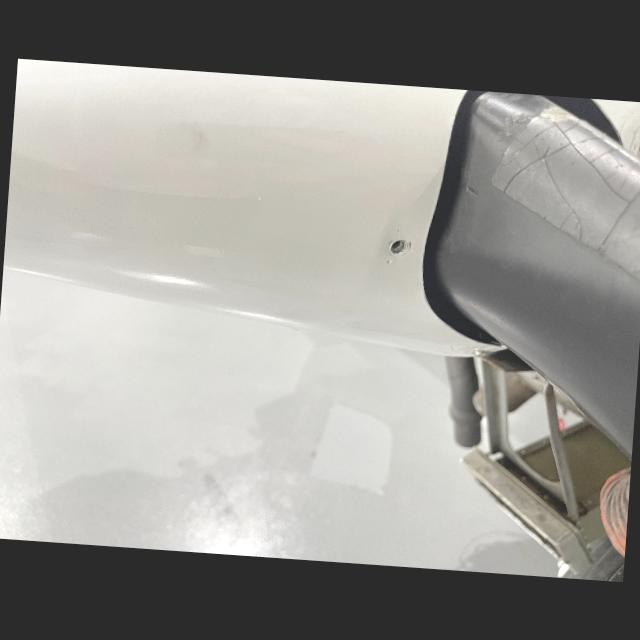Missing Fastener: (378, 233, 417, 265)
